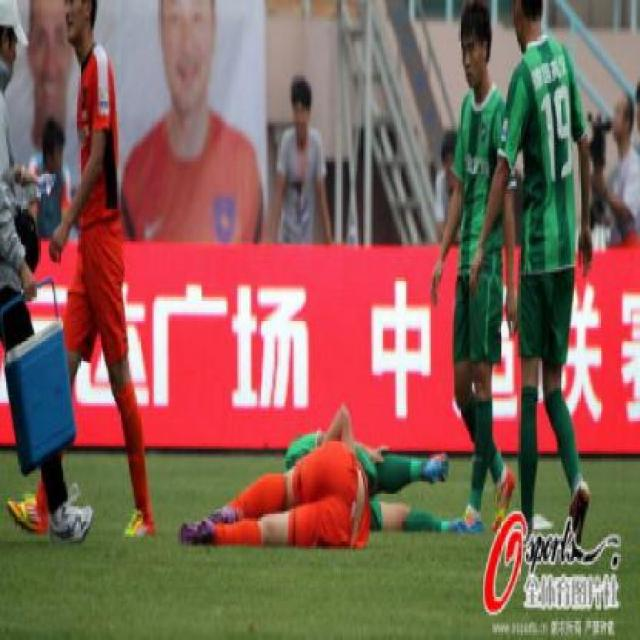fall: (177, 400, 463, 552)
